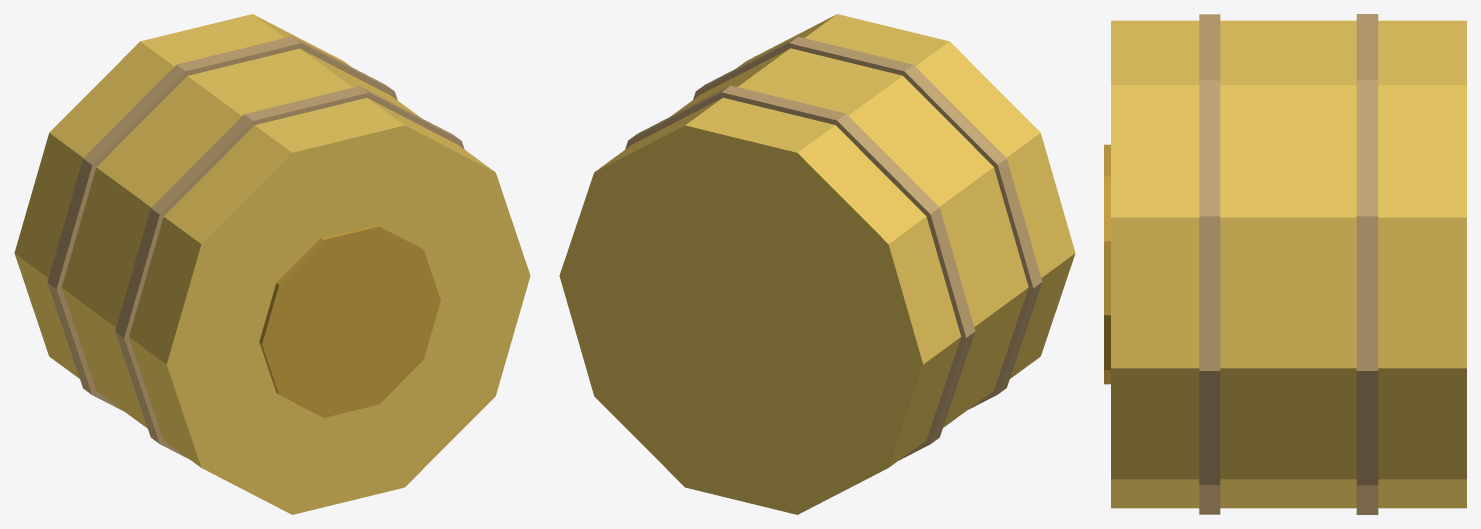
Rendered from Hay_Bale_Round.fbx.
3 renders of one model, left to right at view 1: azimuth 30°, elevation 25°; view 2: azimuth 150°, elevation 25°; view 3: azimuth 270°, elevation 25°, orthographic. The views are drawn at different scales.
Parts seen in each view (by area): view 1: Hay_Bale_Round; view 2: Hay_Bale_Round; view 3: Hay_Bale_Round.
Part boxes in pixels (box(x1,y1,x2,y2)): Hay_Bale_Round: box(14, 14, 530, 514); Hay_Bale_Round: box(559, 14, 1075, 514); Hay_Bale_Round: box(1104, 14, 1466, 514).
Size of the model in its own units: 1.28 by 1.22 by 0.9199.
